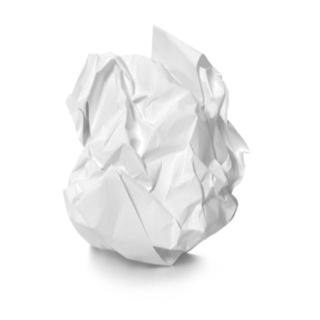Anorganik: (62, 22, 250, 272)
